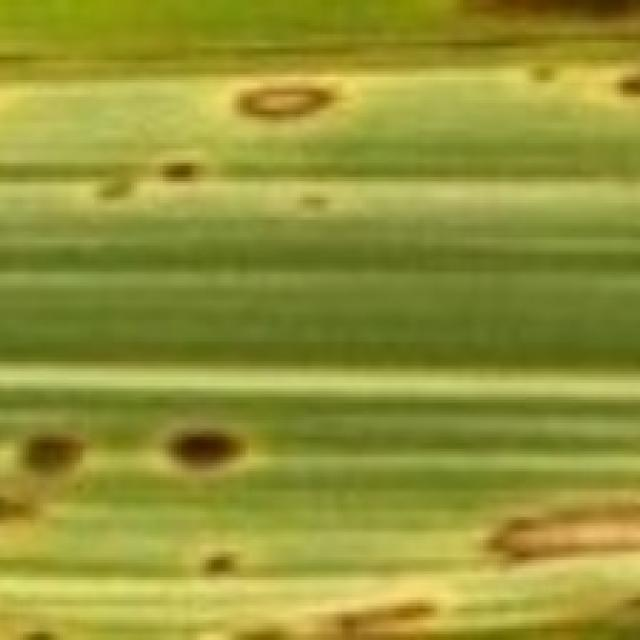Brown_Spot: (468, 481, 640, 571), (149, 409, 255, 485), (438, 0, 640, 39), (222, 77, 346, 132), (315, 590, 449, 640), (12, 426, 100, 482), (0, 477, 51, 545), (190, 538, 249, 583), (87, 171, 141, 205), (160, 155, 202, 187), (526, 57, 556, 91), (609, 70, 640, 102), (20, 620, 64, 640), (298, 192, 332, 215)
